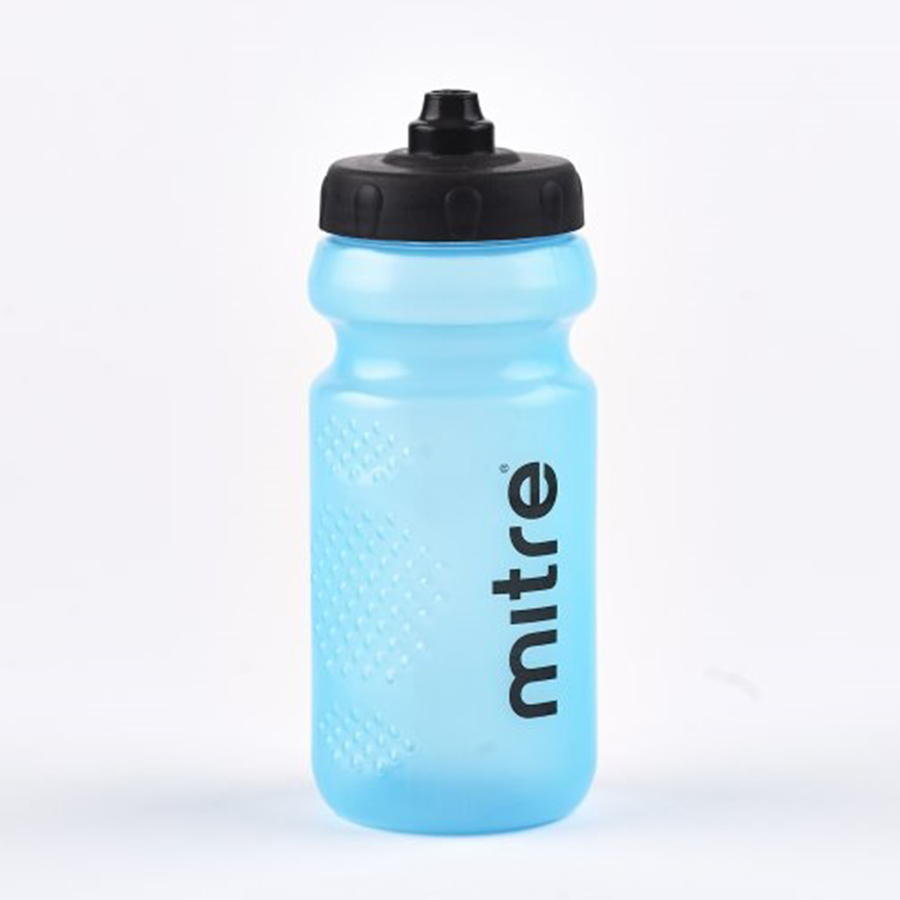Rec_Plastic: (221, 70, 630, 849)
